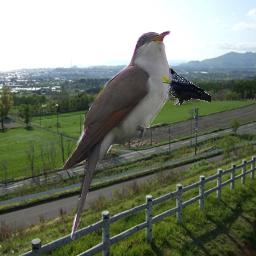Crow: (153, 67, 211, 105)
Cuckoo: (61, 30, 172, 242)
